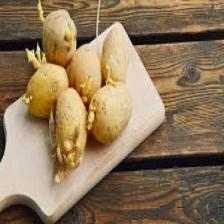Bud: (48, 125, 86, 191), (46, 109, 59, 161), (25, 44, 52, 69), (103, 64, 119, 92), (86, 100, 98, 136), (35, 1, 48, 28), (63, 22, 75, 51), (82, 74, 92, 107), (22, 90, 38, 108)
Sprouted potato: (48, 87, 88, 184), (86, 76, 134, 151), (22, 44, 72, 114), (33, 1, 80, 66), (70, 42, 106, 105), (102, 23, 131, 90)
